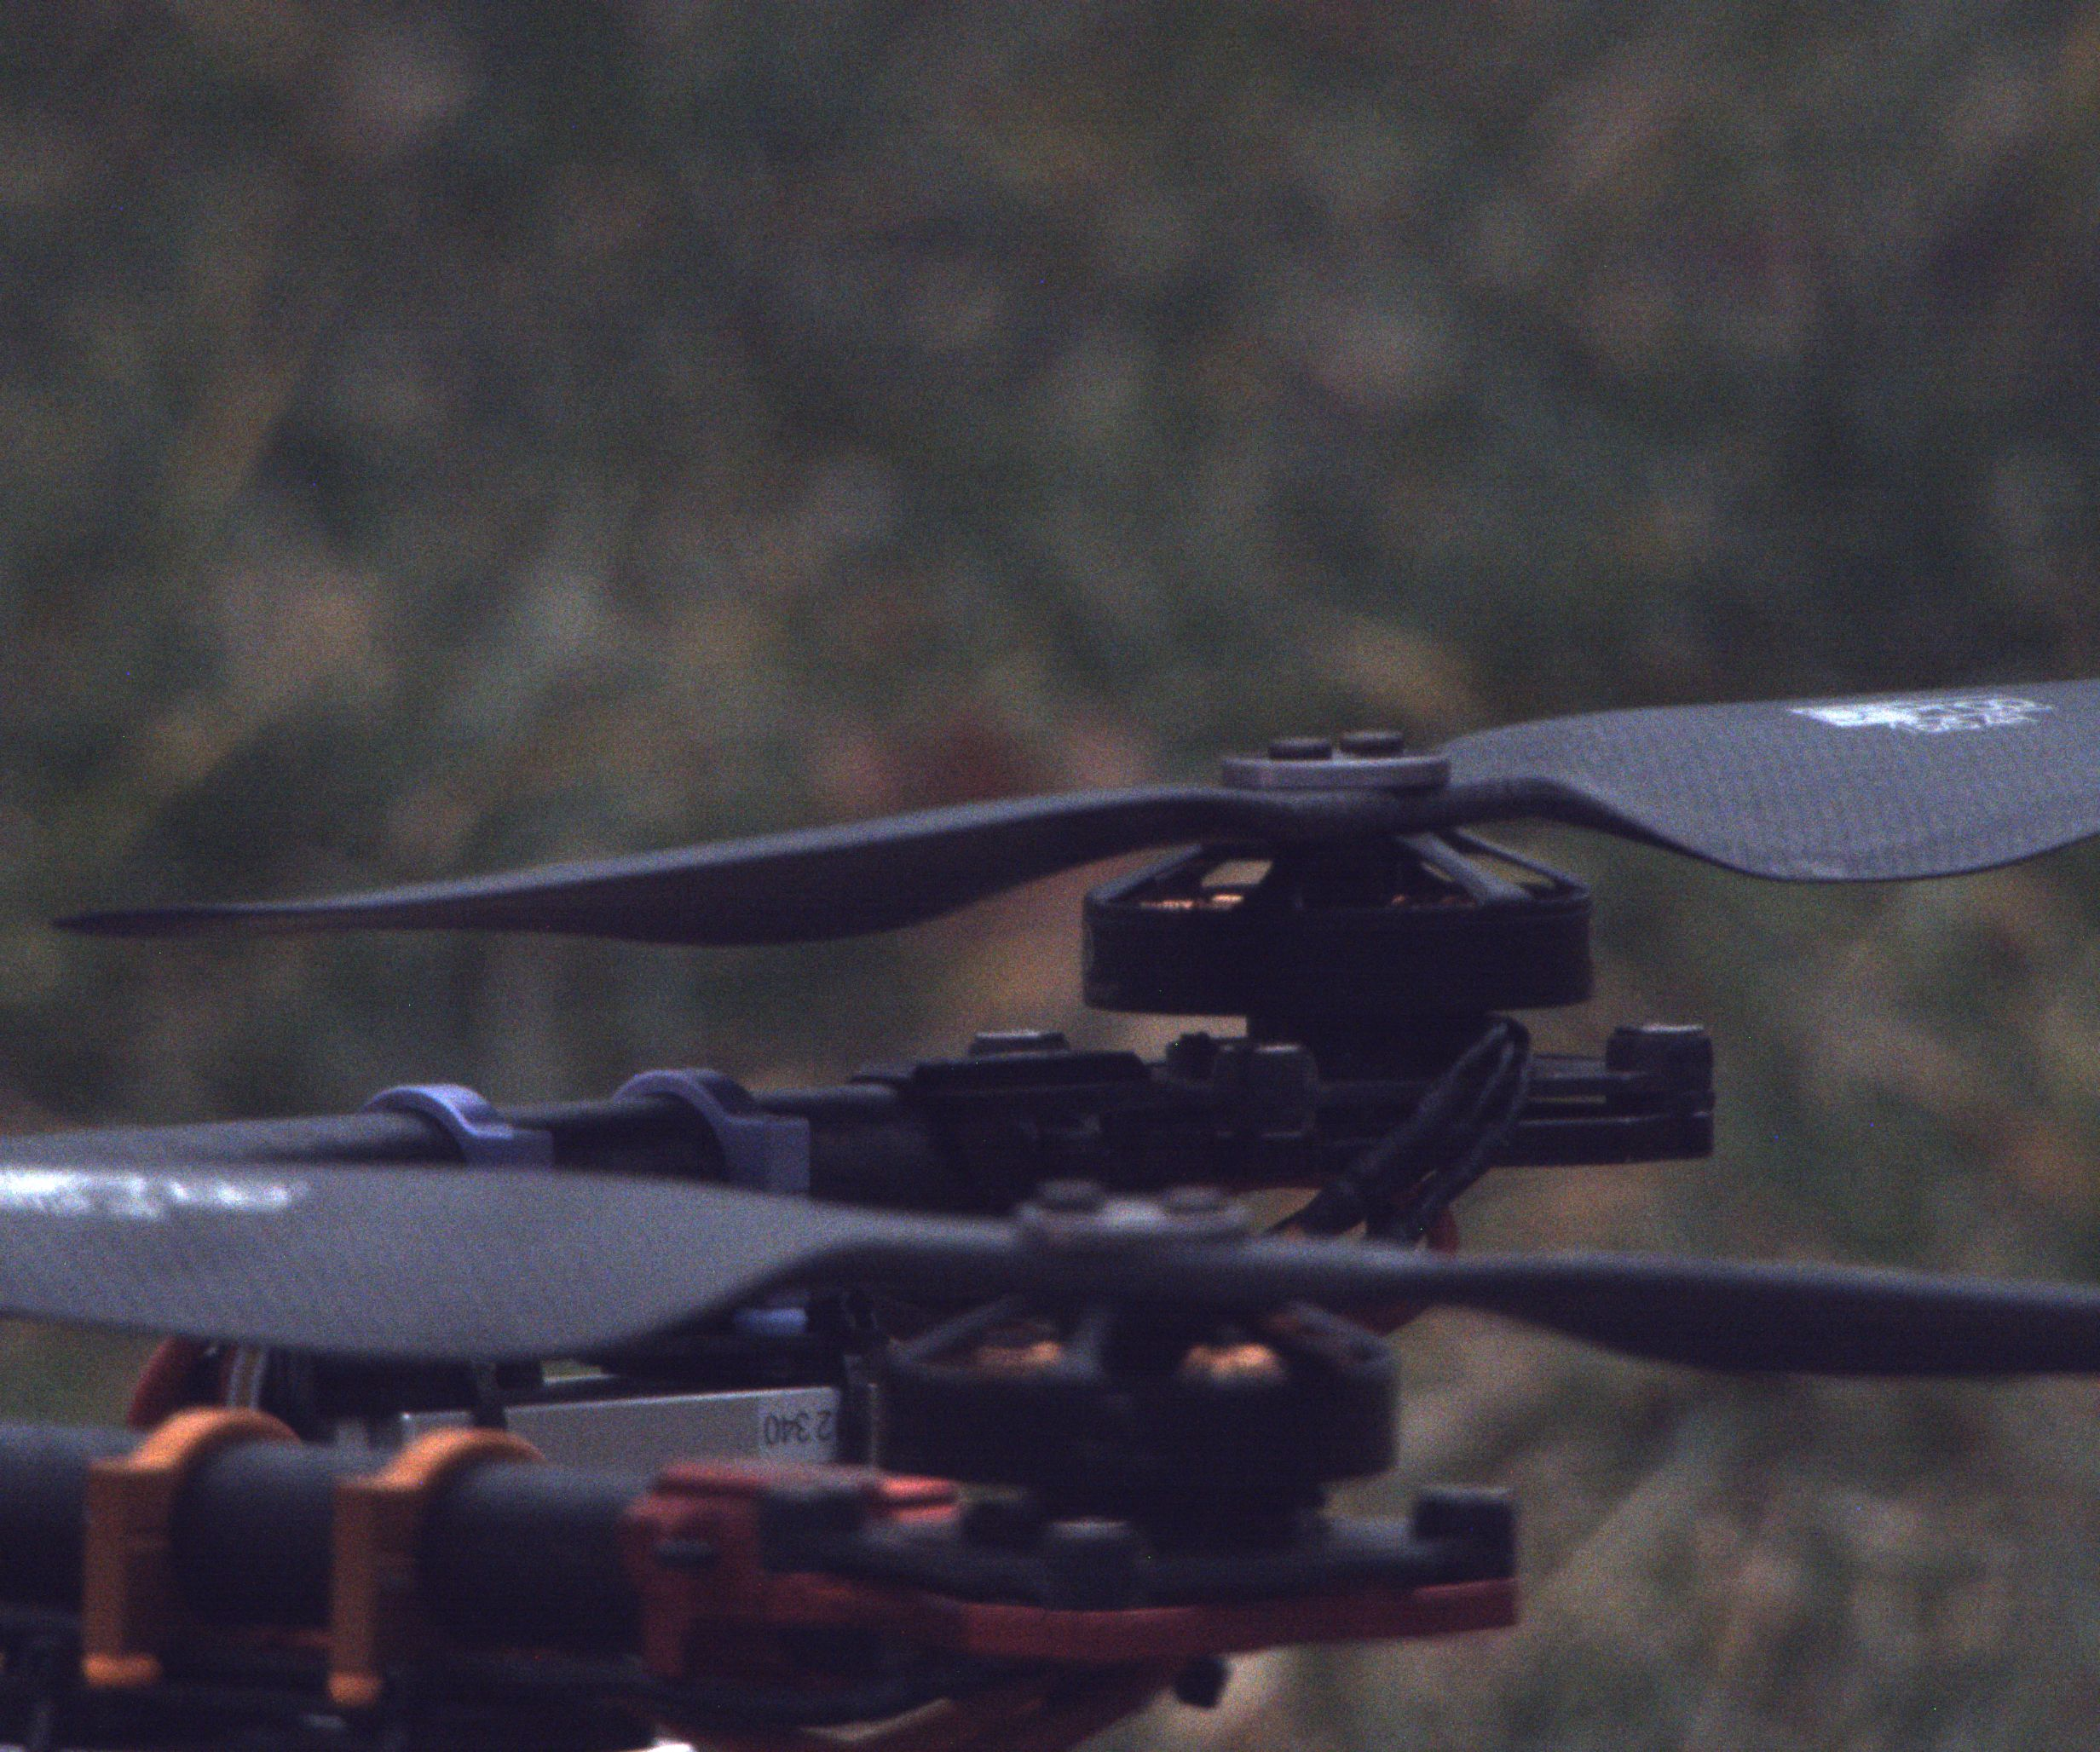Drohne: (5, 683, 2100, 1752)
